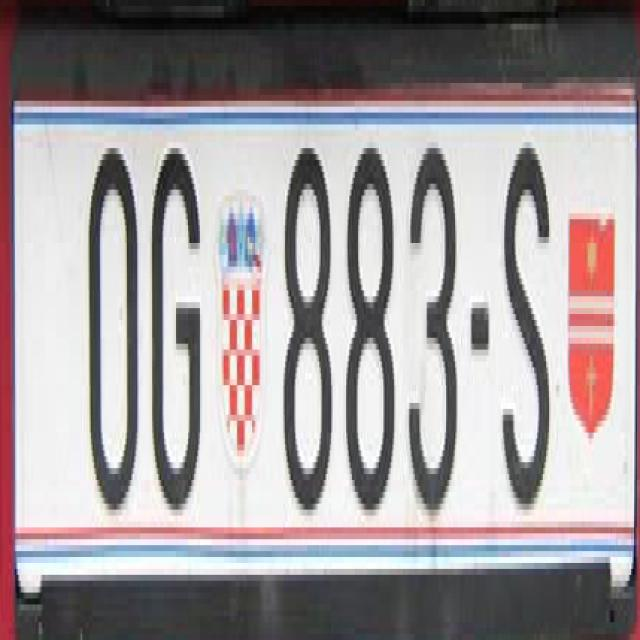Autre: (12, 102, 638, 605)
